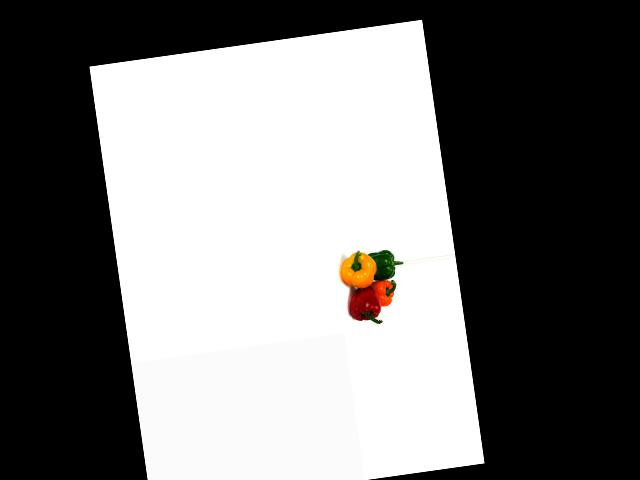bell_pepper: (336, 246, 379, 292)
